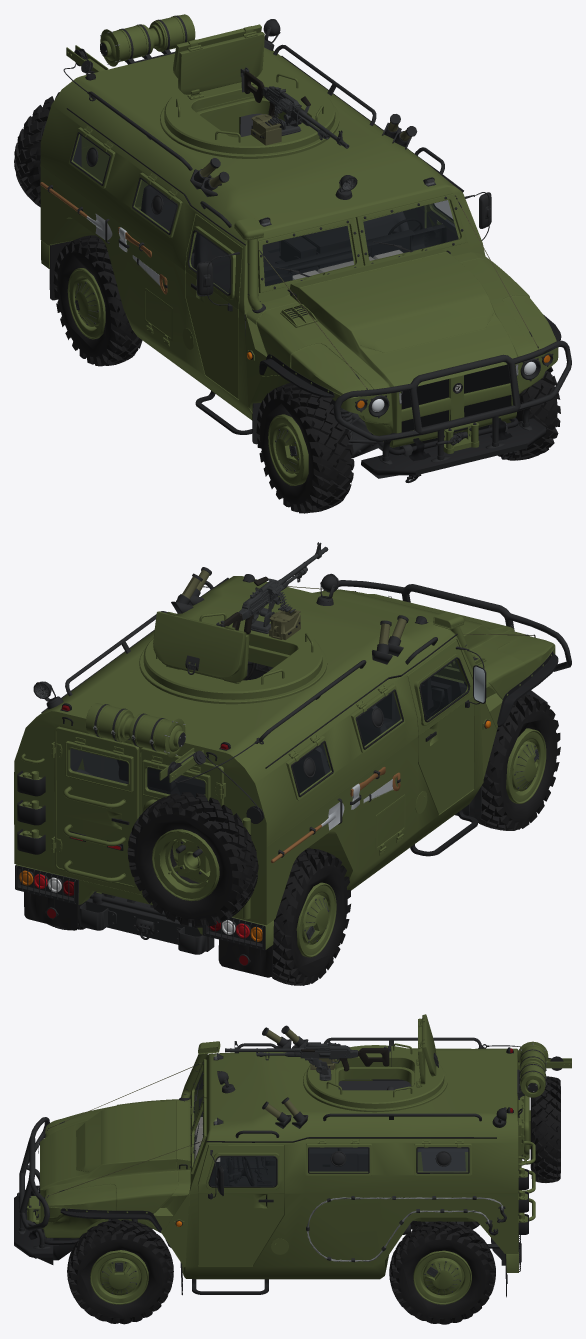
Rendered from gaz_tiger.glb.
3 renders of one model, top to bottom at view 1: azimuth 30°, elevation 25°; view 2: azimuth 150°, elevation 25°; view 3: azimuth 270°, elevation 25°, orthographic. The views are drawn at different scales.
Parts seen in each view (by area): view 1: body, wheel_front_right, wheel_rear_right, turret, gun, wheel_front_left, mirrors; view 2: body, wheel_rear_right, wheel_front_right, turret, gun, mirrors; view 3: body, wheel_front_left, wheel_rear_left, gun, turret.
Boxes of the visible parts, bbox=[...] form: body: bbox=[14, 14, 571, 482]; wheel_front_right: bbox=[256, 383, 354, 513]; wheel_rear_right: bbox=[53, 235, 142, 366]; turret: bbox=[173, 24, 323, 142]; gun: bbox=[240, 67, 349, 148]; wheel_front_left: bbox=[498, 366, 560, 460]; mirrors: bbox=[196, 192, 491, 311]; body: bbox=[14, 567, 571, 977]; wheel_rear_right: bbox=[271, 848, 350, 985]; wheel_front_right: bbox=[477, 694, 560, 830]; turret: bbox=[153, 610, 313, 684]; gun: bbox=[216, 542, 328, 639]; mirrors: bbox=[177, 586, 486, 707]; body: bbox=[14, 1025, 571, 1297]; wheel_front_left: bbox=[67, 1219, 173, 1324]; wheel_rear_left: bbox=[389, 1221, 495, 1324]; gun: bbox=[225, 1041, 391, 1071]; turret: bbox=[316, 1014, 438, 1097].
Bounding box in the file's own units: 2.86 × 2.86 × 5.81.
Materials: 28 (1 with a texture image).
